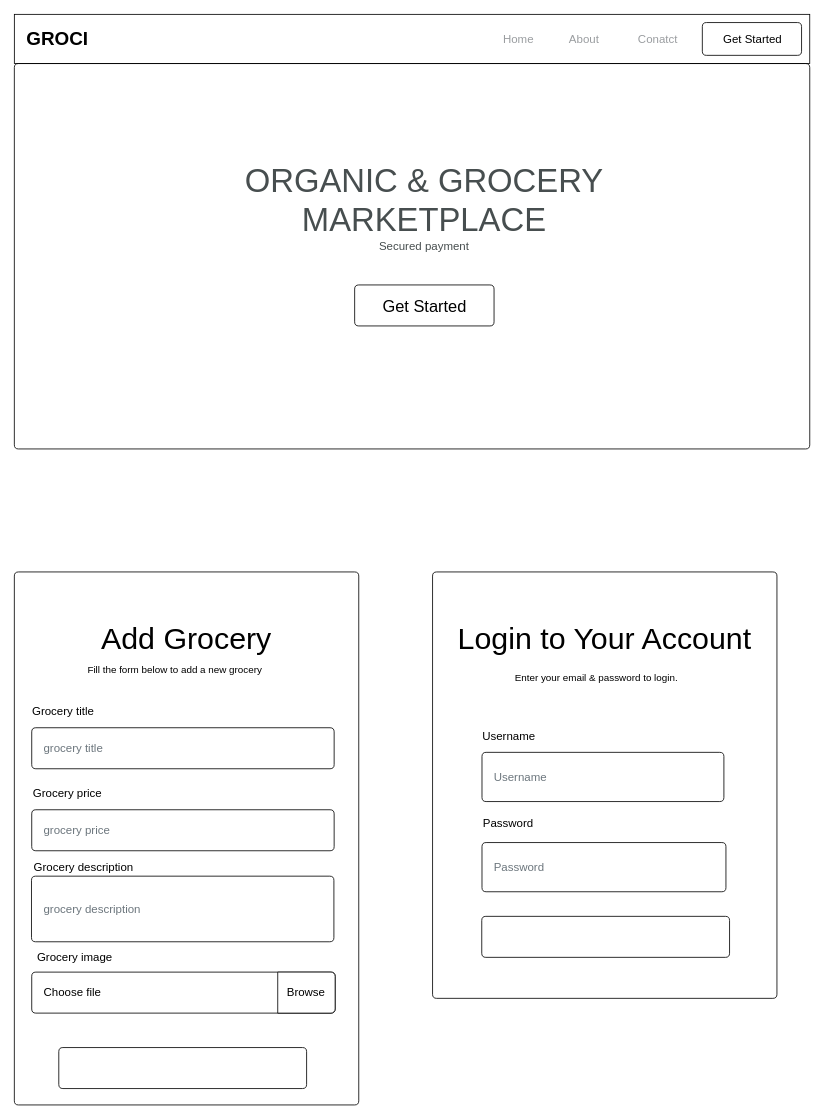
Some shapes in this 824 by 1119 pixel diagram are drawn without their labels. Each missing label, with the centre of its shape:
"Login" goes at point (605, 936).
"Save" goes at point (182, 1068).
